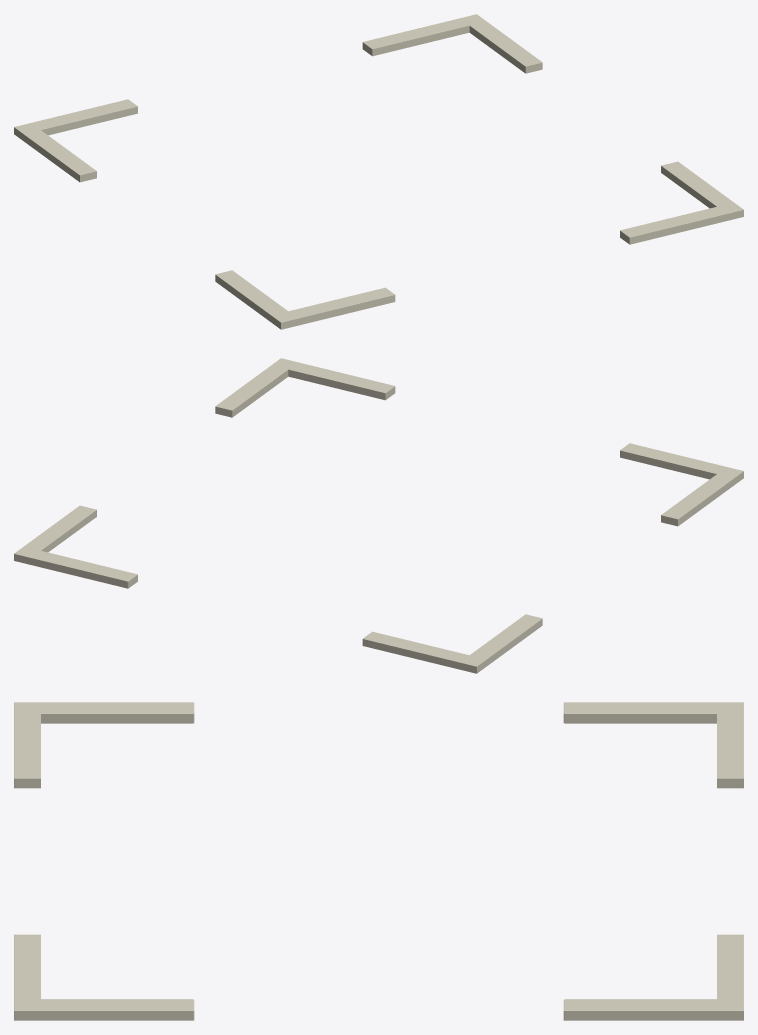
The model's file is spawn_marker_2m.glb.
3 renders of one model, top to bottom at view 1: azimuth 30°, elevation 25°; view 2: azimuth 150°, elevation 25°; view 3: azimuth 270°, elevation 25°, orthographic. The views are drawn at different scales.
Parts seen in each view (by area): view 1: Corner mark.009, Corner mark.011, Corner mark.013, Corner mark.015, Corner mark.008, Corner mark.014, Corner mark.012, Corner mark.010; view 2: Corner mark.011, Corner mark.009, Corner mark.015, Corner mark.013, Corner mark.010, Corner mark.012, Corner mark.014, Corner mark.008; view 3: Corner mark.014, Corner mark.012, Corner mark.008, Corner mark.010, Corner mark.013, Corner mark.015, Corner mark.011, Corner mark.009.
Part boxes in pixels (<box>): Corner mark.009: <box>271,287,395,329</box>; Corner mark.011: <box>14,99,137,140</box>; Corner mark.013: <box>620,203,743,244</box>; Corner mark.015: <box>362,14,485,56</box>; Corner mark.008: <box>215,270,298,329</box>; Corner mark.014: <box>460,14,542,73</box>; Corner mark.012: <box>661,161,743,220</box>; Corner mark.010: <box>14,125,96,182</box>; Corner mark.011: <box>362,631,486,673</box>; Corner mark.009: <box>620,443,743,484</box>; Corner mark.015: <box>14,548,137,588</box>; Corner mark.013: <box>274,358,395,400</box>; Corner mark.010: <box>459,614,542,673</box>; Corner mark.012: <box>215,358,297,417</box>; Corner mark.014: <box>14,505,96,564</box>; Corner mark.008: <box>661,469,743,526</box>; Corner mark.014: <box>563,999,743,1020</box>; Corner mark.012: <box>14,999,194,1020</box>; Corner mark.008: <box>14,702,194,723</box>; Corner mark.010: <box>563,702,743,723</box>; Corner mark.013: <box>14,934,40,1020</box>; Corner mark.015: <box>717,934,743,1020</box>; Corner mark.011: <box>717,702,743,788</box>; Corner mark.009: <box>14,702,40,788</box>.
Size of the model in its own units: 1.62 by 0.024 by 1.62.
